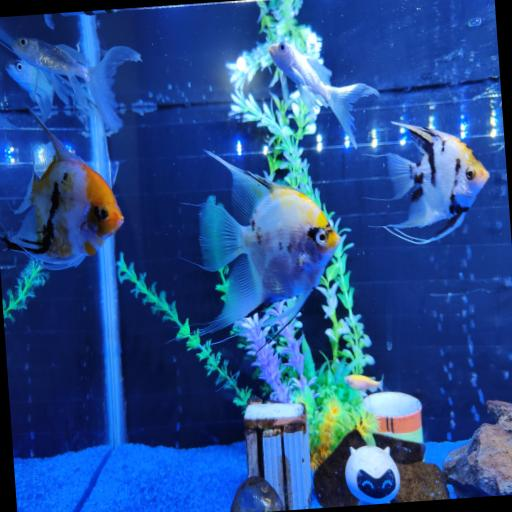Fish: (200, 152, 340, 334), (2, 112, 123, 269), (384, 122, 489, 244), (13, 38, 141, 133), (269, 42, 379, 148), (6, 60, 75, 121), (6, 60, 54, 120), (345, 375, 383, 392), (0, 115, 15, 129)
